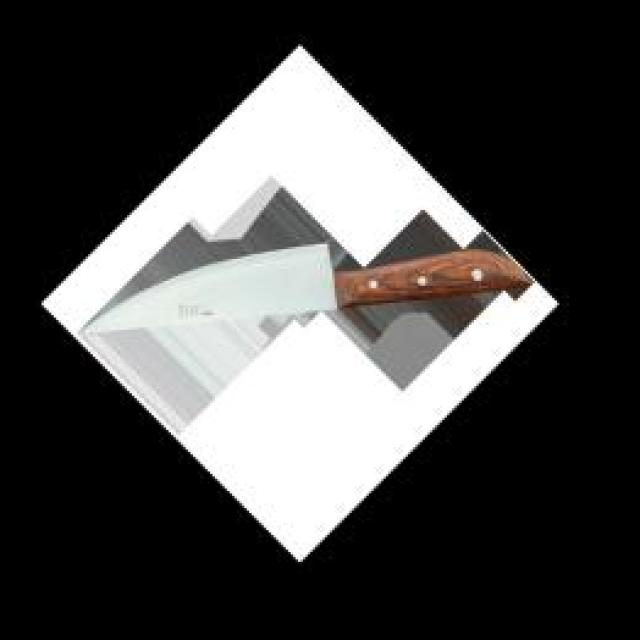knife: (73, 240, 535, 334)
